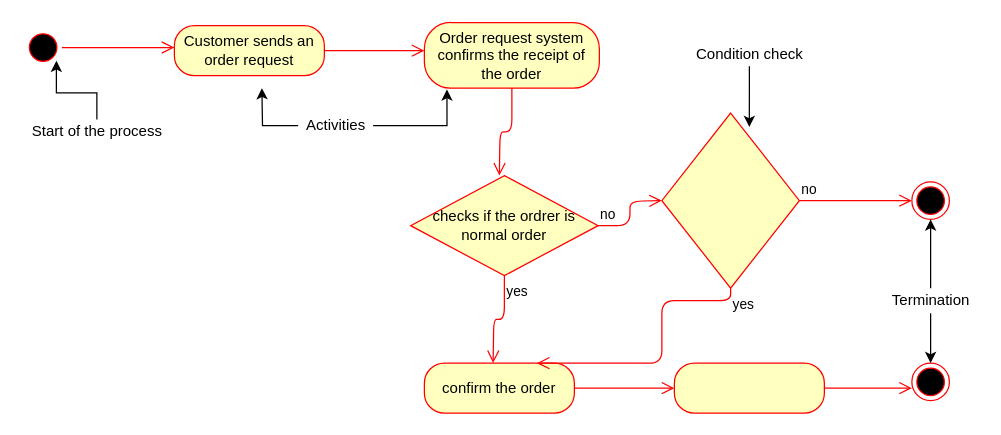
The diagram is 1001 pixels wide and 435 high, and some of its shapes have lost their labels. Here are the shapes that lost their labels. From the top down, the centre of each, then its label:
point (730, 200): check if the order is special order
point (748, 387): Dispatch the order
